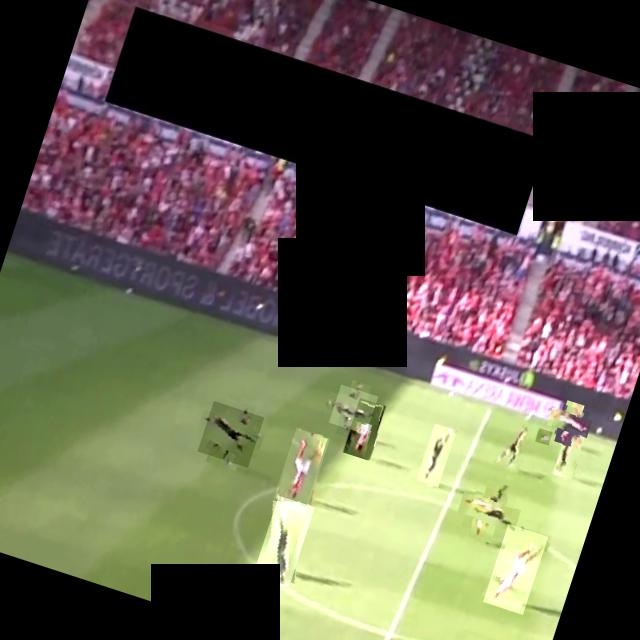ball: (534, 426, 552, 444)
referee: (461, 483, 516, 538)
soccer-player: (482, 523, 548, 614), (252, 494, 314, 586), (196, 400, 264, 467), (273, 427, 329, 508), (342, 397, 386, 460), (416, 422, 456, 487), (328, 384, 378, 434), (493, 418, 532, 474), (551, 426, 585, 479), (548, 402, 589, 443)
